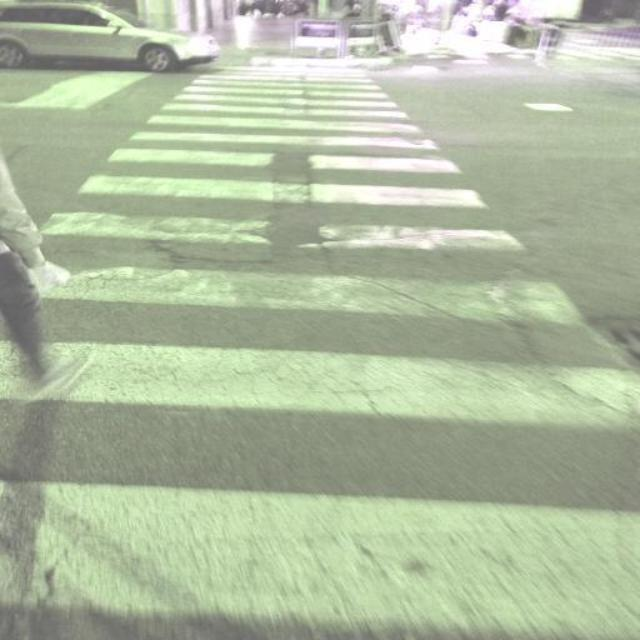sidewalk: (0, 54, 640, 640)
